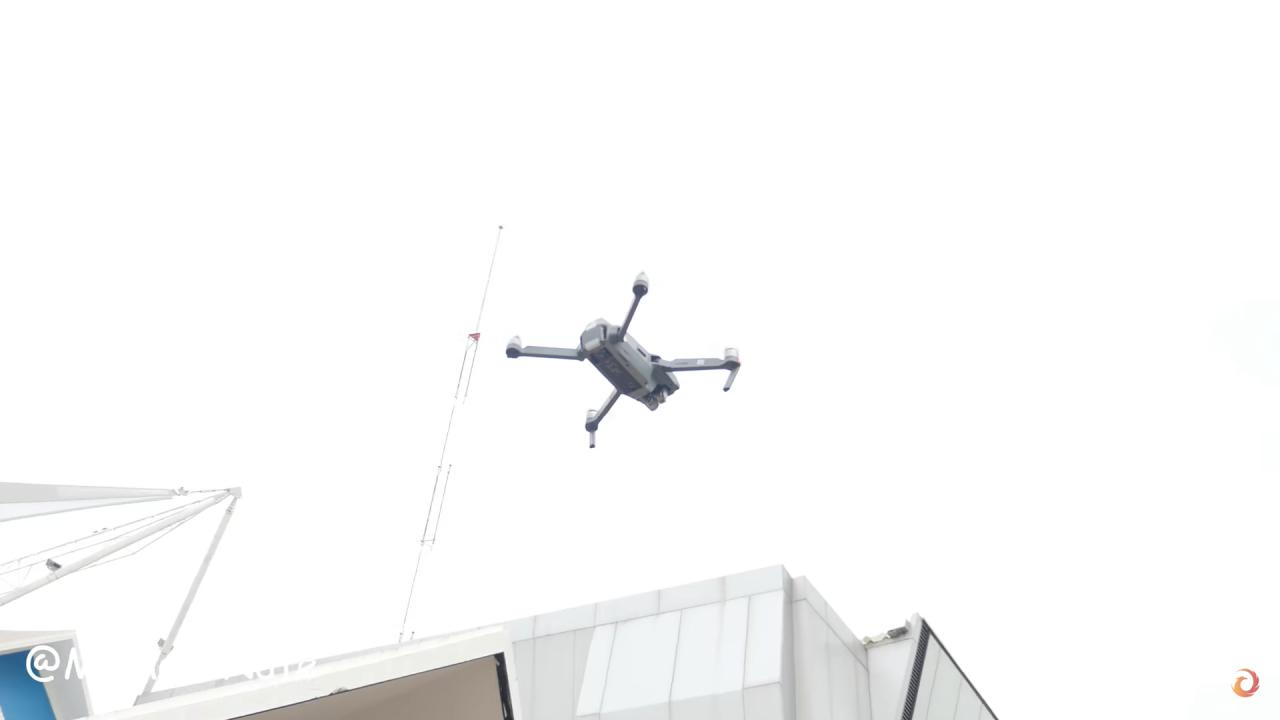Drone: (499, 261, 747, 456)
